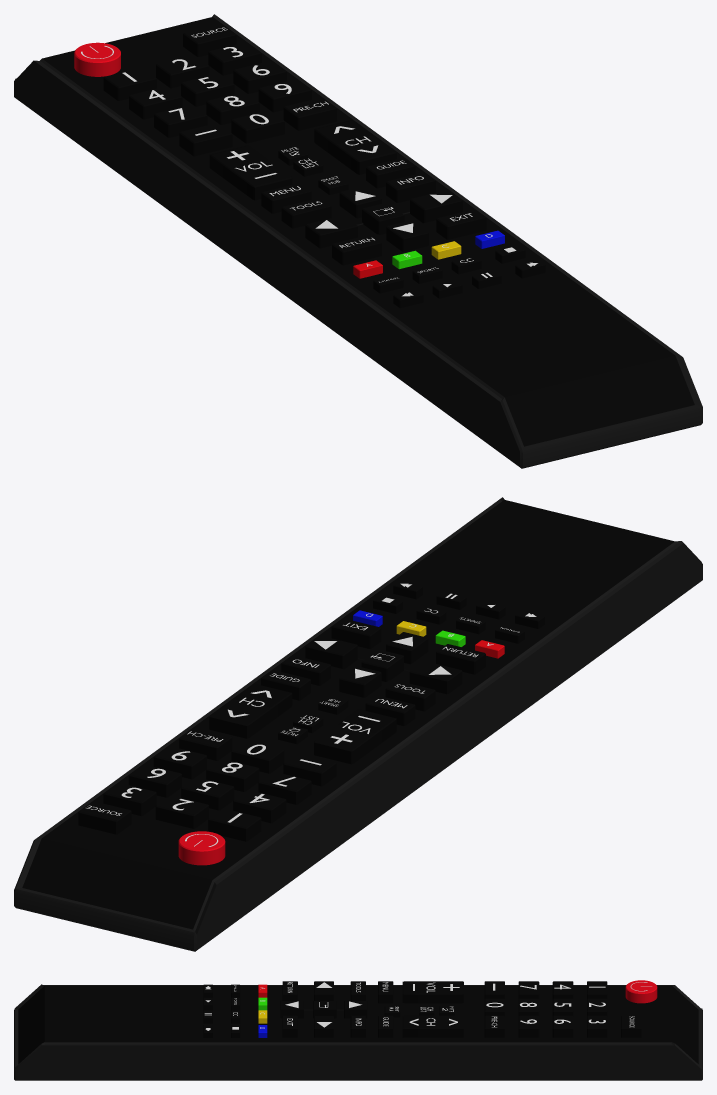
Rendered from TV Controller.dae.
3 renders of one model, top to bottom at view 1: azimuth 30°, elevation 25°; view 2: azimuth 150°, elevation 25°; view 3: azimuth 270°, elevation 25°, orthographic. The views are drawn at different scales.
Visible parts, largest first — view 1: TV_Controller; view 2: TV_Controller; view 3: TV_Controller.
Part boxes in pixels (x1,y1,x2,y2): TV_Controller: [14, 14, 702, 468]; TV_Controller: [14, 497, 702, 951]; TV_Controller: [14, 980, 702, 1080].
Bounding box in the file's own units: 2.1 × 10.1 × 0.7633.
